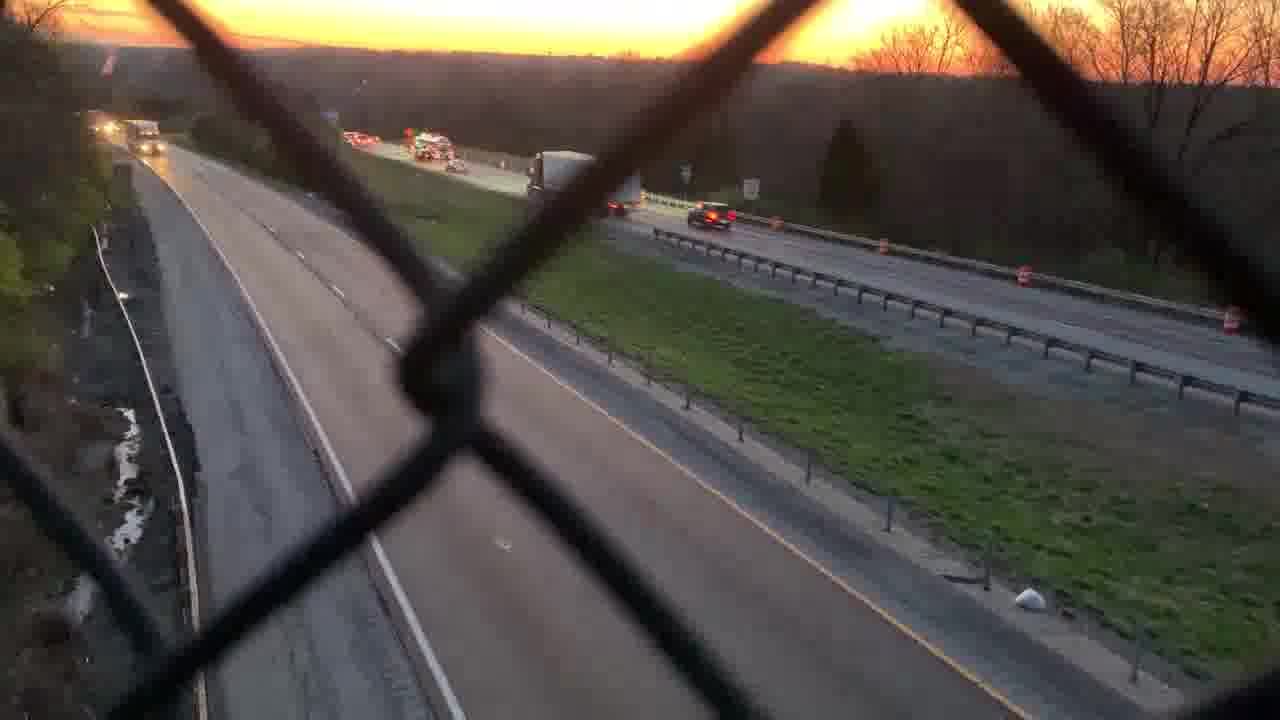heavyTruck: (527, 147, 647, 212)
largeCar: (689, 198, 739, 227)
